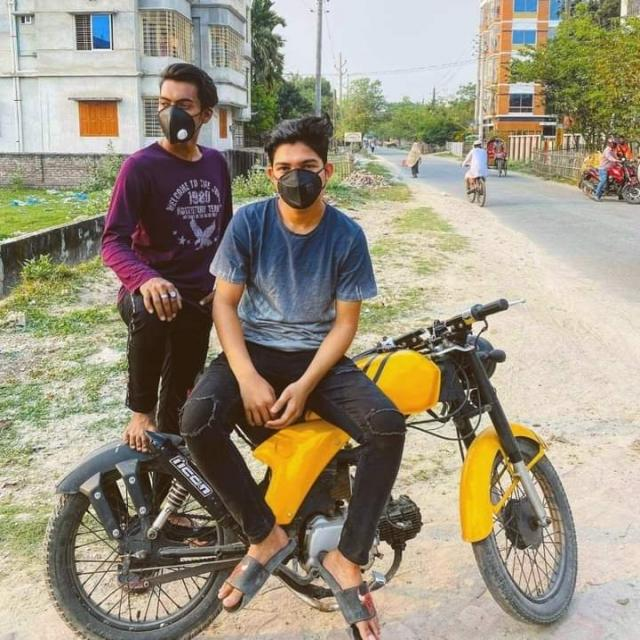Not Wearing Helmet: (224, 114, 405, 223)
